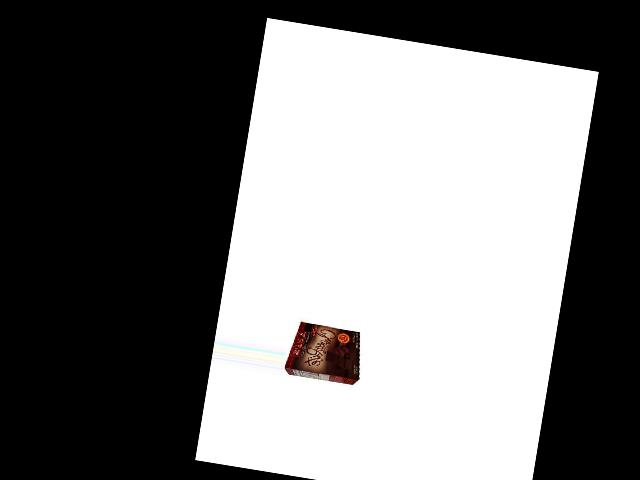chocolate: (285, 319, 367, 385)
